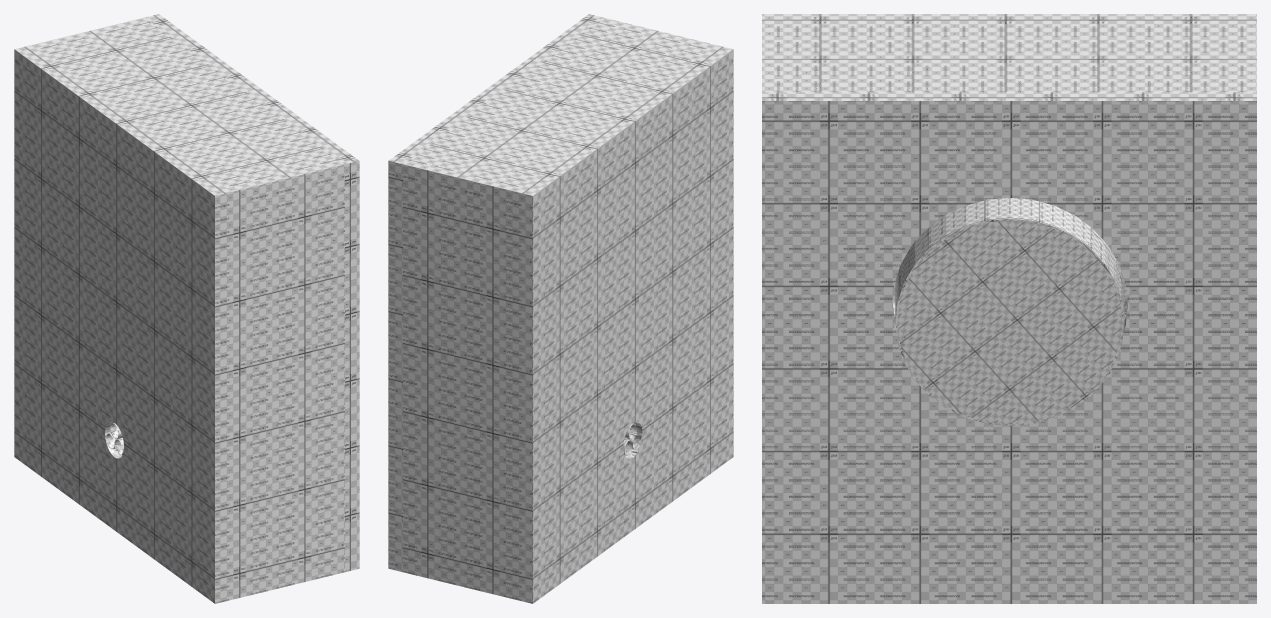
The model's file is HydroMeter.fbx.
3 renders of one model, left to right at view 1: azimuth 30°, elevation 25°; view 2: azimuth 150°, elevation 25°; view 3: azimuth 270°, elevation 25°, orthographic. The views are drawn at different scales.
Parts seen in each view (by area): view 1: Hydro Meter Box, Hydro Meter Box Front; view 2: Hydro Meter Box, Hydro Meter Box Front; view 3: Hydro Meter Box Front, Hydro Meter Plastic Cover, Hydro Meter Box.
Boxes of the visible parts, x1,y1,x2,y2 form: Hydro Meter Box: (14,17,344,603); Hydro Meter Box Front: (145,14,359,572); Hydro Meter Box: (403,17,733,603); Hydro Meter Box Front: (388,14,602,572); Hydro Meter Box Front: (762,92,1256,603); Hydro Meter Plastic Cover: (895,198,1124,425); Hydro Meter Box: (762,14,1256,317).
Size of the model in its own units: 12.03 by 27.05 by 24.04.
